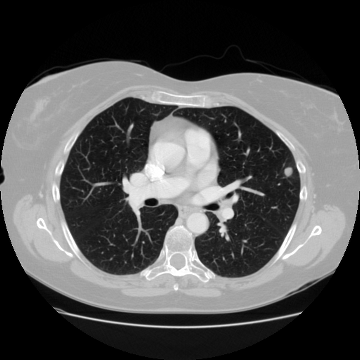nodule: (283, 166, 293, 176)
